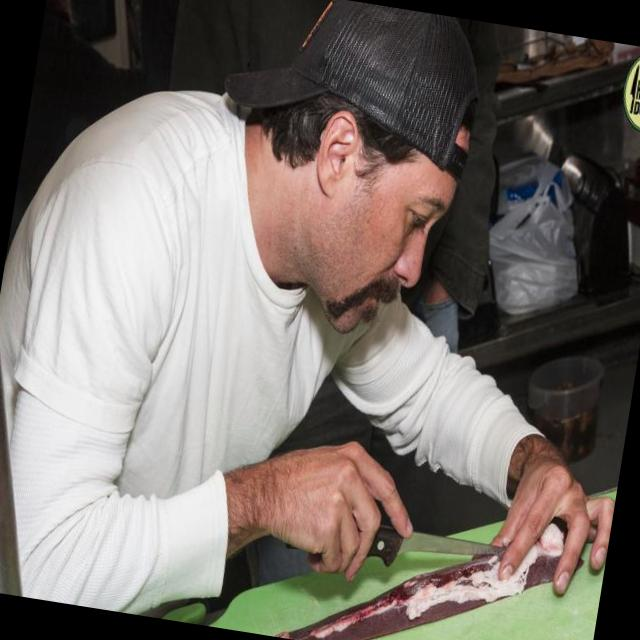Knife: (369, 525, 504, 566)
